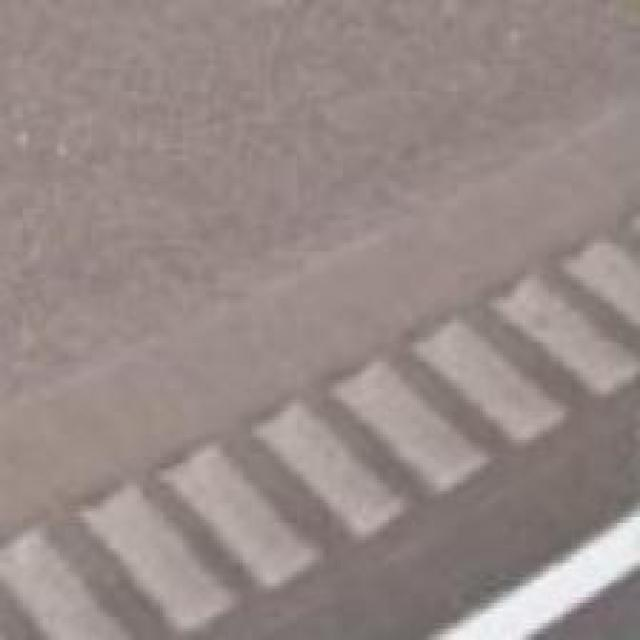zebra: (1, 196, 640, 640)
